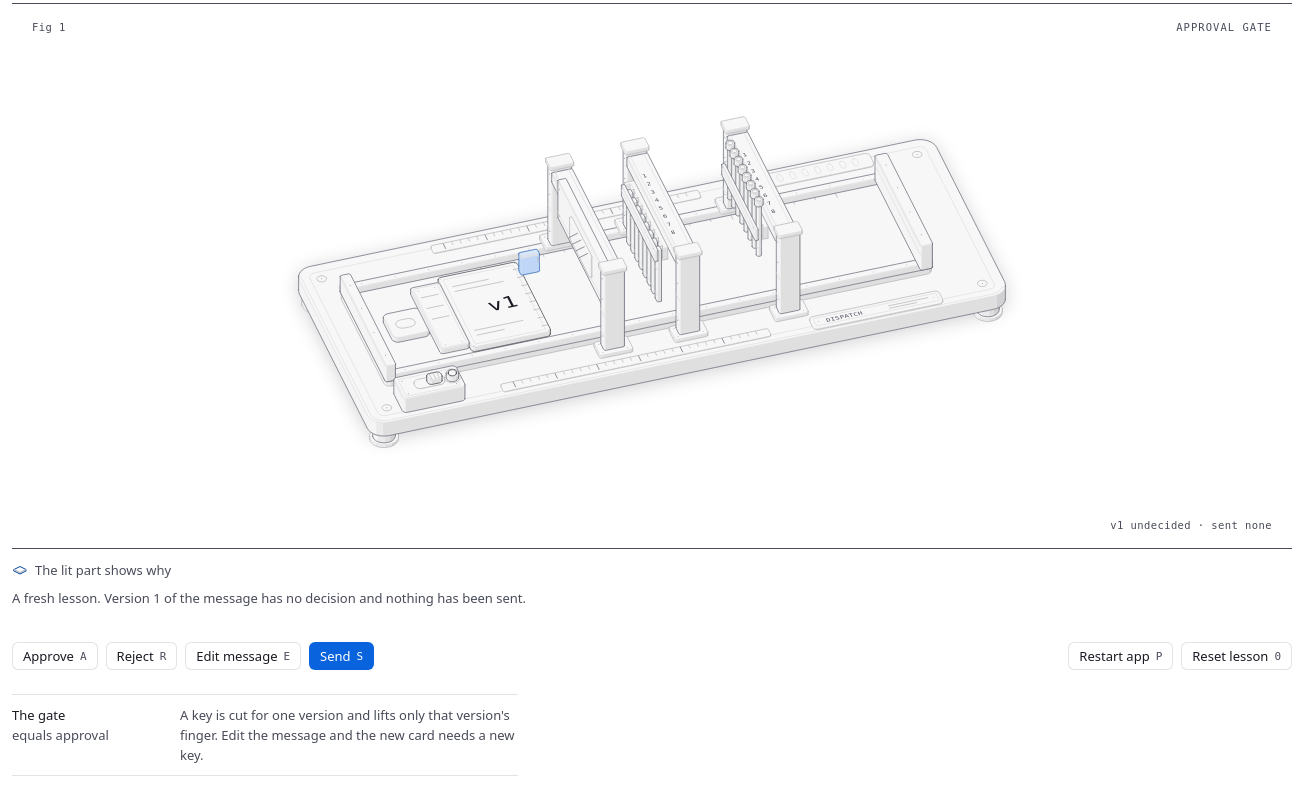
Scenario: ApprovalGateLesson › keeps the caption and the readout on the old state until the card has reached the blocker
Click the button "Send S" at {"x": 342, "y": 656}, box 309,642 -> 374,670
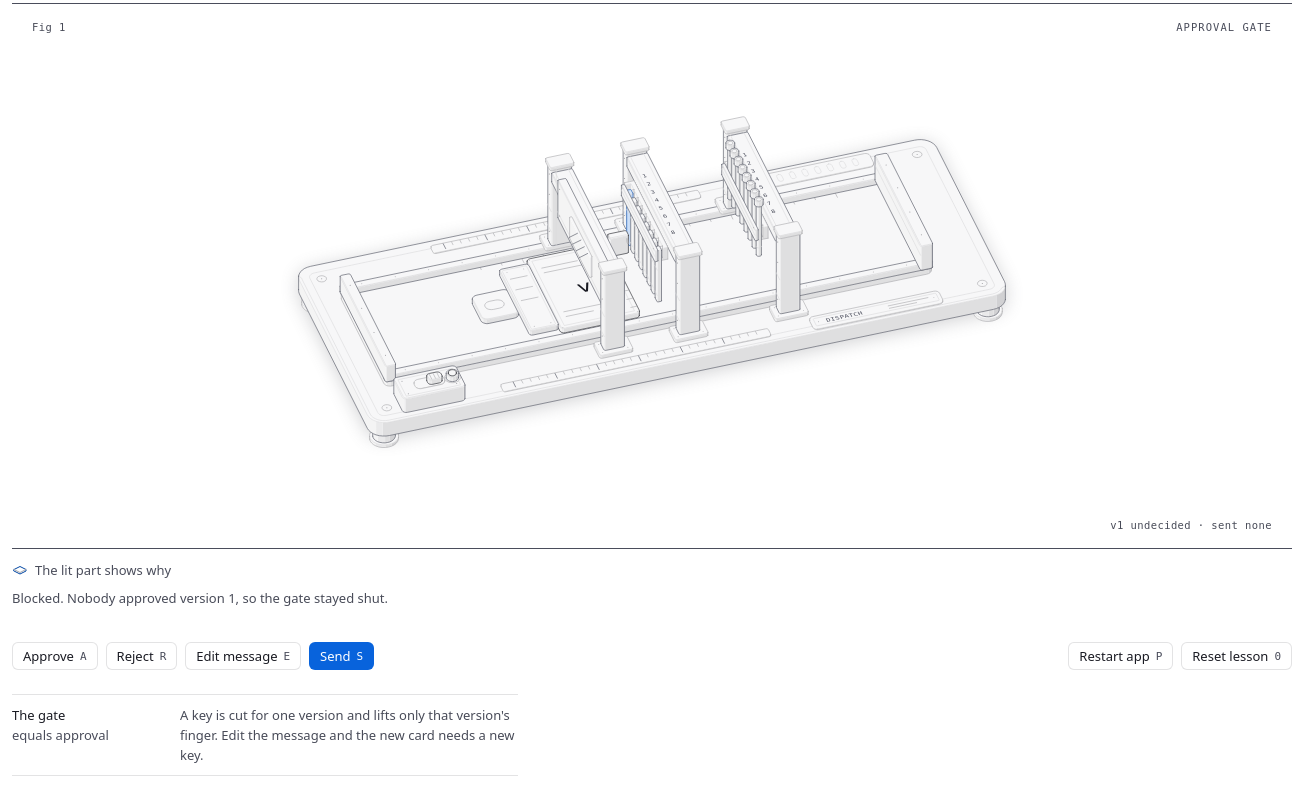
Check: the text "Blocked. Nobody approved version 1, so the gate stayed shut." is shown, box 12,589 -> 388,607
Check: the text "A fresh lesson" is gone
